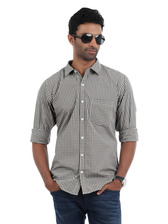clothoes: (20, 57, 140, 194)
glasses: (67, 31, 108, 45)
